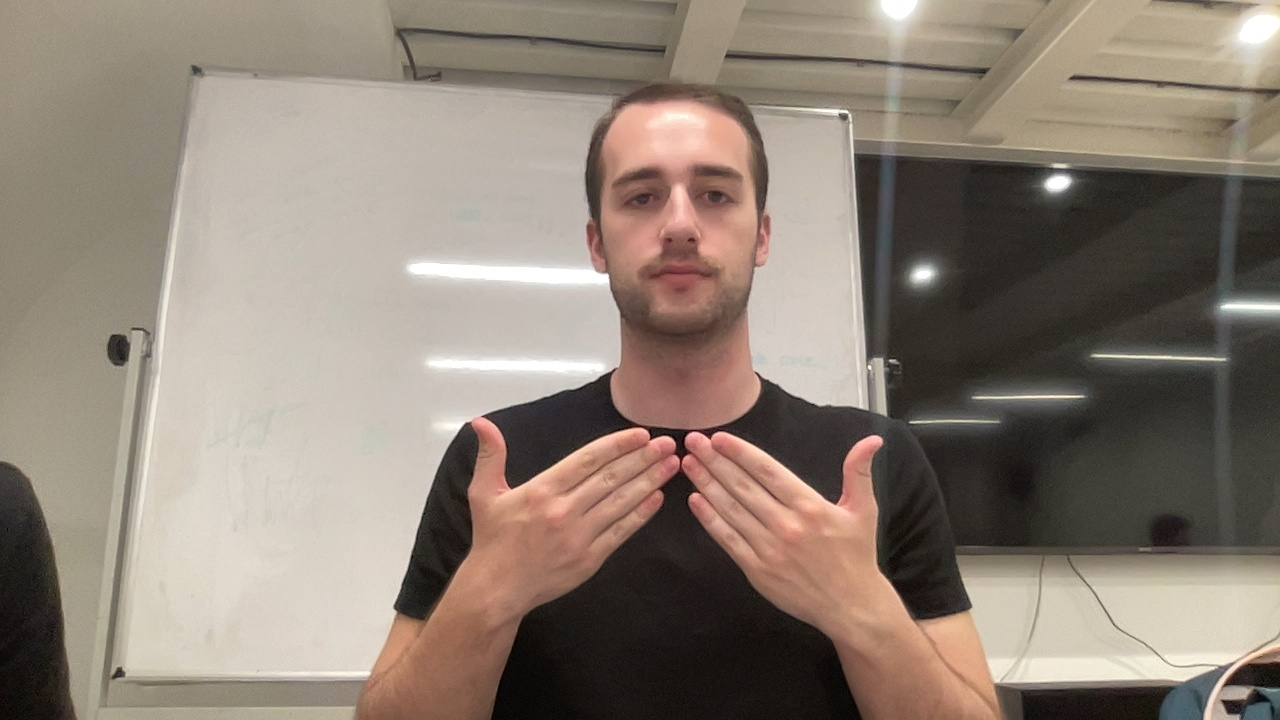Thank You: (449, 406, 894, 650)
